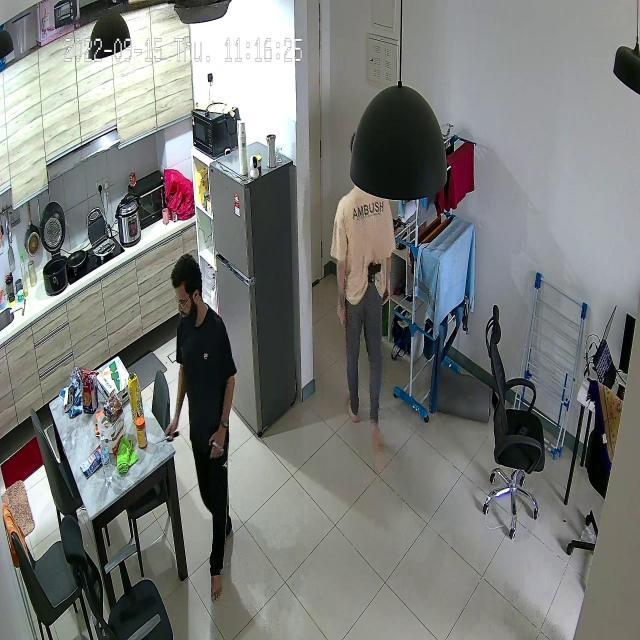Gun: (357, 245, 392, 294)
